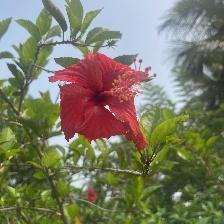hibiscus: (44, 50, 156, 159)
